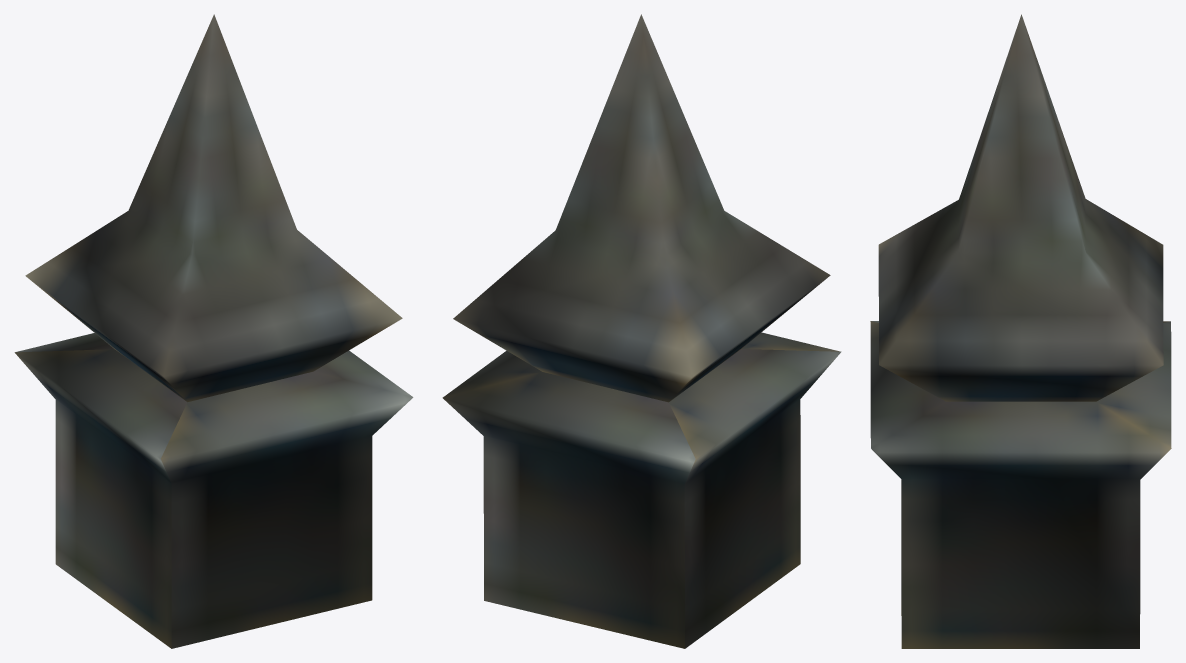
File: S_Build_Forest014_L1.FBX
The picture shows the model from 3 angles, left to right: view 1: azimuth 30°, elevation 25°; view 2: azimuth 150°, elevation 25°; view 3: azimuth 270°, elevation 25°; orthographic projection. The views are drawn at different scales.
Parts seen in each view (by area): view 1: S_Build_Forest014_L1; view 2: S_Build_Forest014_L1; view 3: S_Build_Forest014_L1.
Boxes of the visible parts, x1=… form: S_Build_Forest014_L1: x1=14, y1=14, x2=413, y2=648; S_Build_Forest014_L1: x1=442, y1=14, x2=841, y2=648; S_Build_Forest014_L1: x1=870, y1=14, x2=1171, y2=648.
Bounding box in the file's own units: 101 × 217 × 101.
